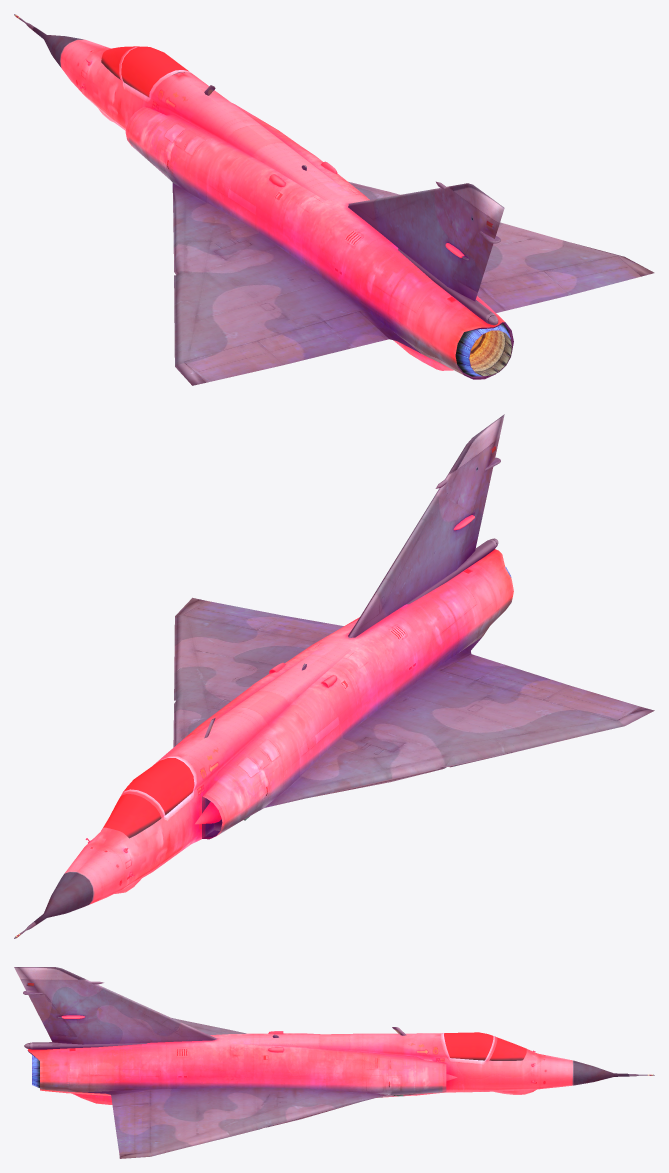
The picture shows the model from 3 angles, top to bottom: view 1: azimuth 30°, elevation 25°; view 2: azimuth 150°, elevation 25°; view 3: azimuth 270°, elevation 25°; orthographic projection. The views are drawn at different scales.
Parts seen in each view (by area): view 1: Mirage_III_LOD0_default, Mirage_III_Glass_Canopy01_default, Mirage_III_EngineL01_default, Mirage_III_ElevatorL01_default, Mirage_III_AileronL01_default, Mirage_III_ElevatorR01_default, Mirage_III_AileronR01_default, Mirage_III_RudderL01_default, Mirage_III_FlapL01_default; view 2: Mirage_III_LOD0_default, Mirage_III_Glass_Canopy01_default, Mirage_III_AileronL01_default, Mirage_III_ElevatorL01_default, Mirage_III_AileronR01_default, Mirage_III_ElevatorR01_default, Mirage_III_FlapL01_default, Mirage_III_RudderL01_default; view 3: Mirage_III_LOD0_default, Mirage_III_Glass_Canopy01_default, Mirage_III_RudderL01_default, Mirage_III_ElevatorR01_default, Mirage_III_AileronR01_default, Mirage_III_FlapR01_default, Mirage_III_Canopy01_default.
Boxes of the visible parts, x1=… form: Mirage_III_LOD0_default: x1=14, y1=14, x2=654, y2=385; Mirage_III_Glass_Canopy01_default: x1=101, y1=46, x2=188, y2=97; Mirage_III_EngineL01_default: x1=455, y1=323, x2=512, y2=376; Mirage_III_ElevatorL01_default: x1=257, y1=321, x2=352, y2=364; Mirage_III_AileronL01_default: x1=183, y1=341, x2=282, y2=382; Mirage_III_ElevatorR01_default: x1=479, y1=271, x2=569, y2=310; Mirage_III_AileronR01_default: x1=544, y1=256, x2=640, y2=295; Mirage_III_RudderL01_default: x1=452, y1=232, x2=493, y2=292; Mirage_III_FlapL01_default: x1=324, y1=311, x2=388, y2=347; Mirage_III_LOD0_default: x1=14, y1=414, x2=654, y2=938; Mirage_III_Glass_Canopy01_default: x1=103, y1=758, x2=194, y2=838; Mirage_III_AileronL01_default: x1=543, y1=685, x2=640, y2=721; Mirage_III_ElevatorL01_default: x1=476, y1=665, x2=569, y2=700; Mirage_III_AileronR01_default: x1=183, y1=601, x2=282, y2=630; Mirage_III_ElevatorR01_default: x1=257, y1=615, x2=343, y2=641; Mirage_III_FlapL01_default: x1=441, y1=654, x2=504, y2=680; Mirage_III_RudderL01_default: x1=461, y1=467, x2=493, y2=553; Mirage_III_LOD0_default: x1=14, y1=967, x2=654, y2=1158; Mirage_III_Glass_Canopy01_default: x1=444, y1=1032, x2=526, y2=1060; Mirage_III_RudderL01_default: x1=28, y1=994, x2=76, y2=1036; Mirage_III_ElevatorR01_default: x1=112, y1=1103, x2=150, y2=1129; Mirage_III_AileronR01_default: x1=116, y1=1127, x2=150, y2=1154; Mirage_III_FlapR01_default: x1=111, y1=1091, x2=150, y2=1106; Mirage_III_Canopy01_default: x1=440, y1=1033, x2=495, y2=1064.
Bounding box in the file's own units: 8.24 × 3.6 × 15.14.
4 materials, 4 textured.
